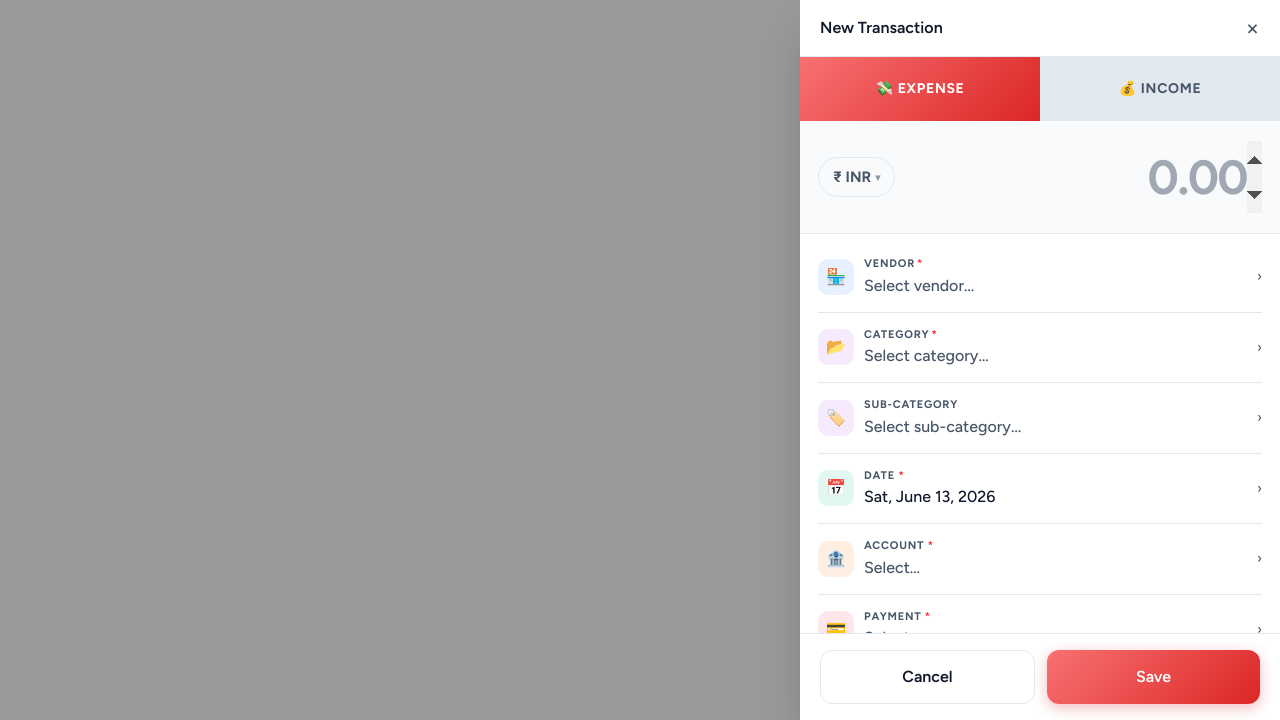
Test case: AddTransactionDrawer › opens the vendor picker when the Vendor row is clicked
This screenshot has width=1280, height=720.
Step 1. Click the button "🏪 Vendor* Select vendor… ›" → click(836, 277), box [818,242,1262,312]
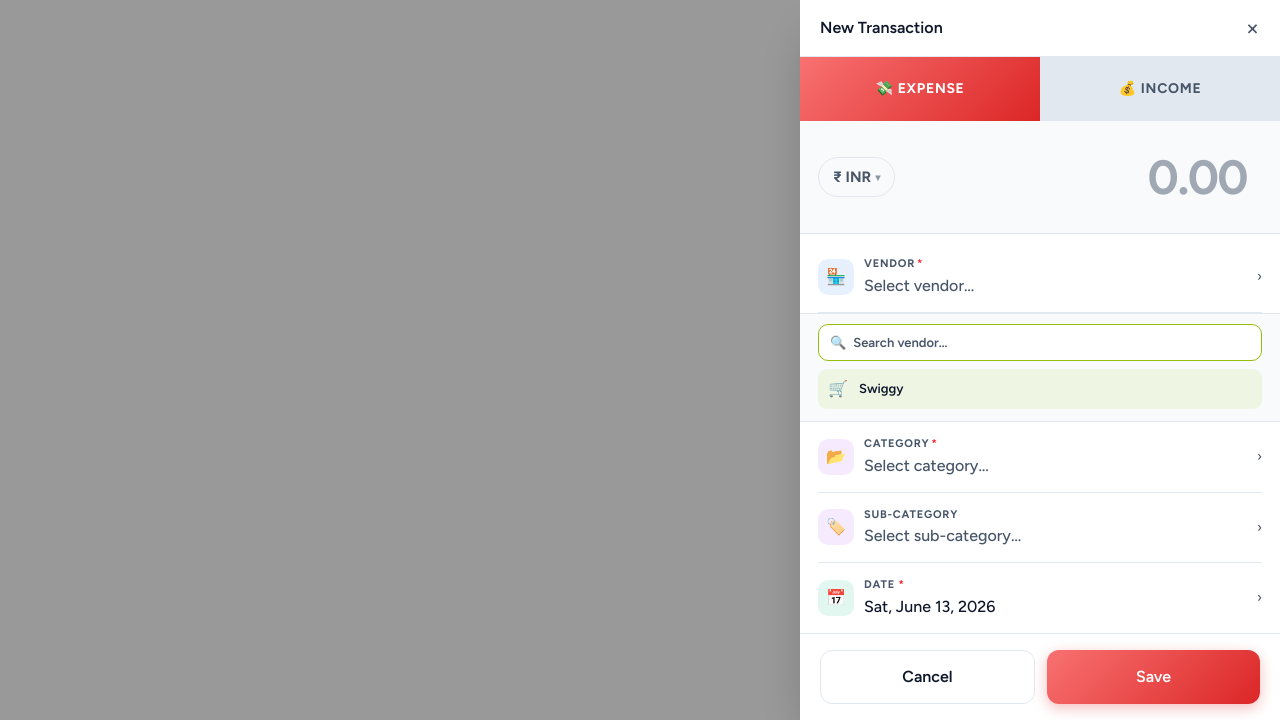
Now the field with placeholder "Search vendor…" is shown, box [853,332,1250,352]
